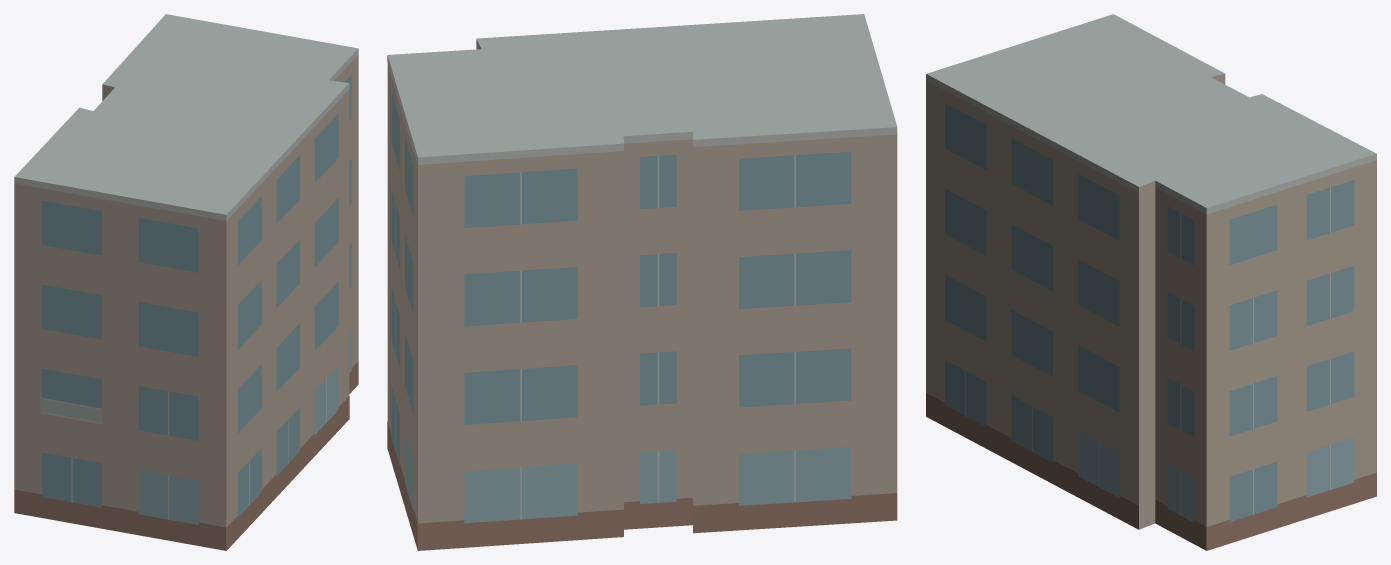
File: survey-upis-32738574.glb
3 views of the same model, side by side, from view 1: azimuth 30°, elevation 25°; view 2: azimuth 150°, elevation 25°; view 3: azimuth 270°, elevation 25° (orthographic). The views are drawn at different scales.
Visible parts, largest first — view 1: survey-upis-32738574.tmp; view 2: survey-upis-32738574.tmp; view 3: survey-upis-32738574.tmp.
Part boxes in pixels (x1=…): survey-upis-32738574.tmp: x1=14, y1=14, x2=358, y2=550; survey-upis-32738574.tmp: x1=387, y1=14, x2=897, y2=550; survey-upis-32738574.tmp: x1=926, y1=14, x2=1376, y2=550.
Bounding box in the file's own units: 15.73 × 12.95 × 15.44.
